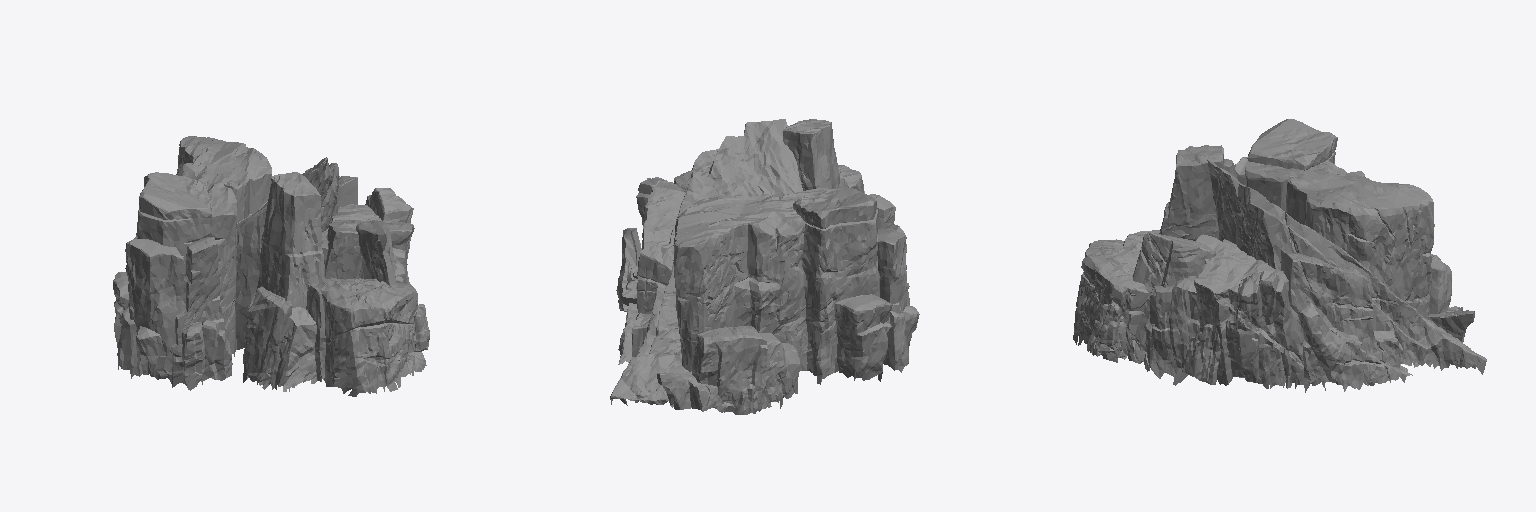
The model's file is CliffPack05_Sc02.obj.
3 views of the same model, side by side, from view 1: azimuth 30°, elevation 25°; view 2: azimuth 150°, elevation 25°; view 3: azimuth 270°, elevation 25° (orthographic).
Parts seen in each view (by area): view 1: Group10022; view 2: Group10022; view 3: Group10022.
Boxes of the visible parts, x1=… form: Group10022: x1=113, y1=136, x2=429, y2=396; Group10022: x1=610, y1=119, x2=919, y2=414; Group10022: x1=1073, y1=119, x2=1486, y2=392.
Bounding box in the file's own units: 33544 × 24509 × 43401.